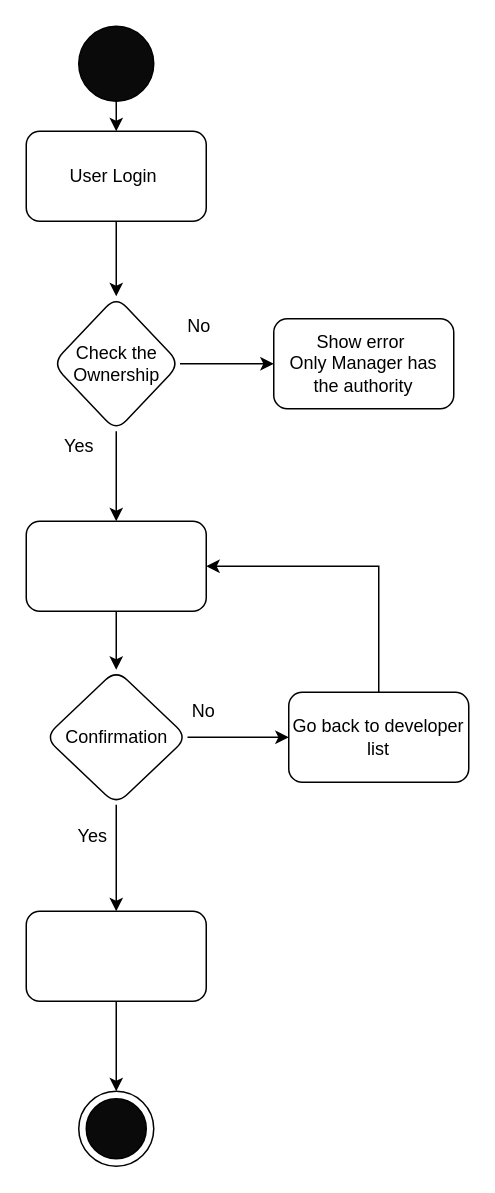
The diagram is 495 pixels wide and 1193 high, and some of its shapes have lost their labels. Each missing label, with the centre of its shape:
"Manager has add the developer" goes at point (115, 565).
"Project has stored in Database with unique id" goes at point (115, 955).
